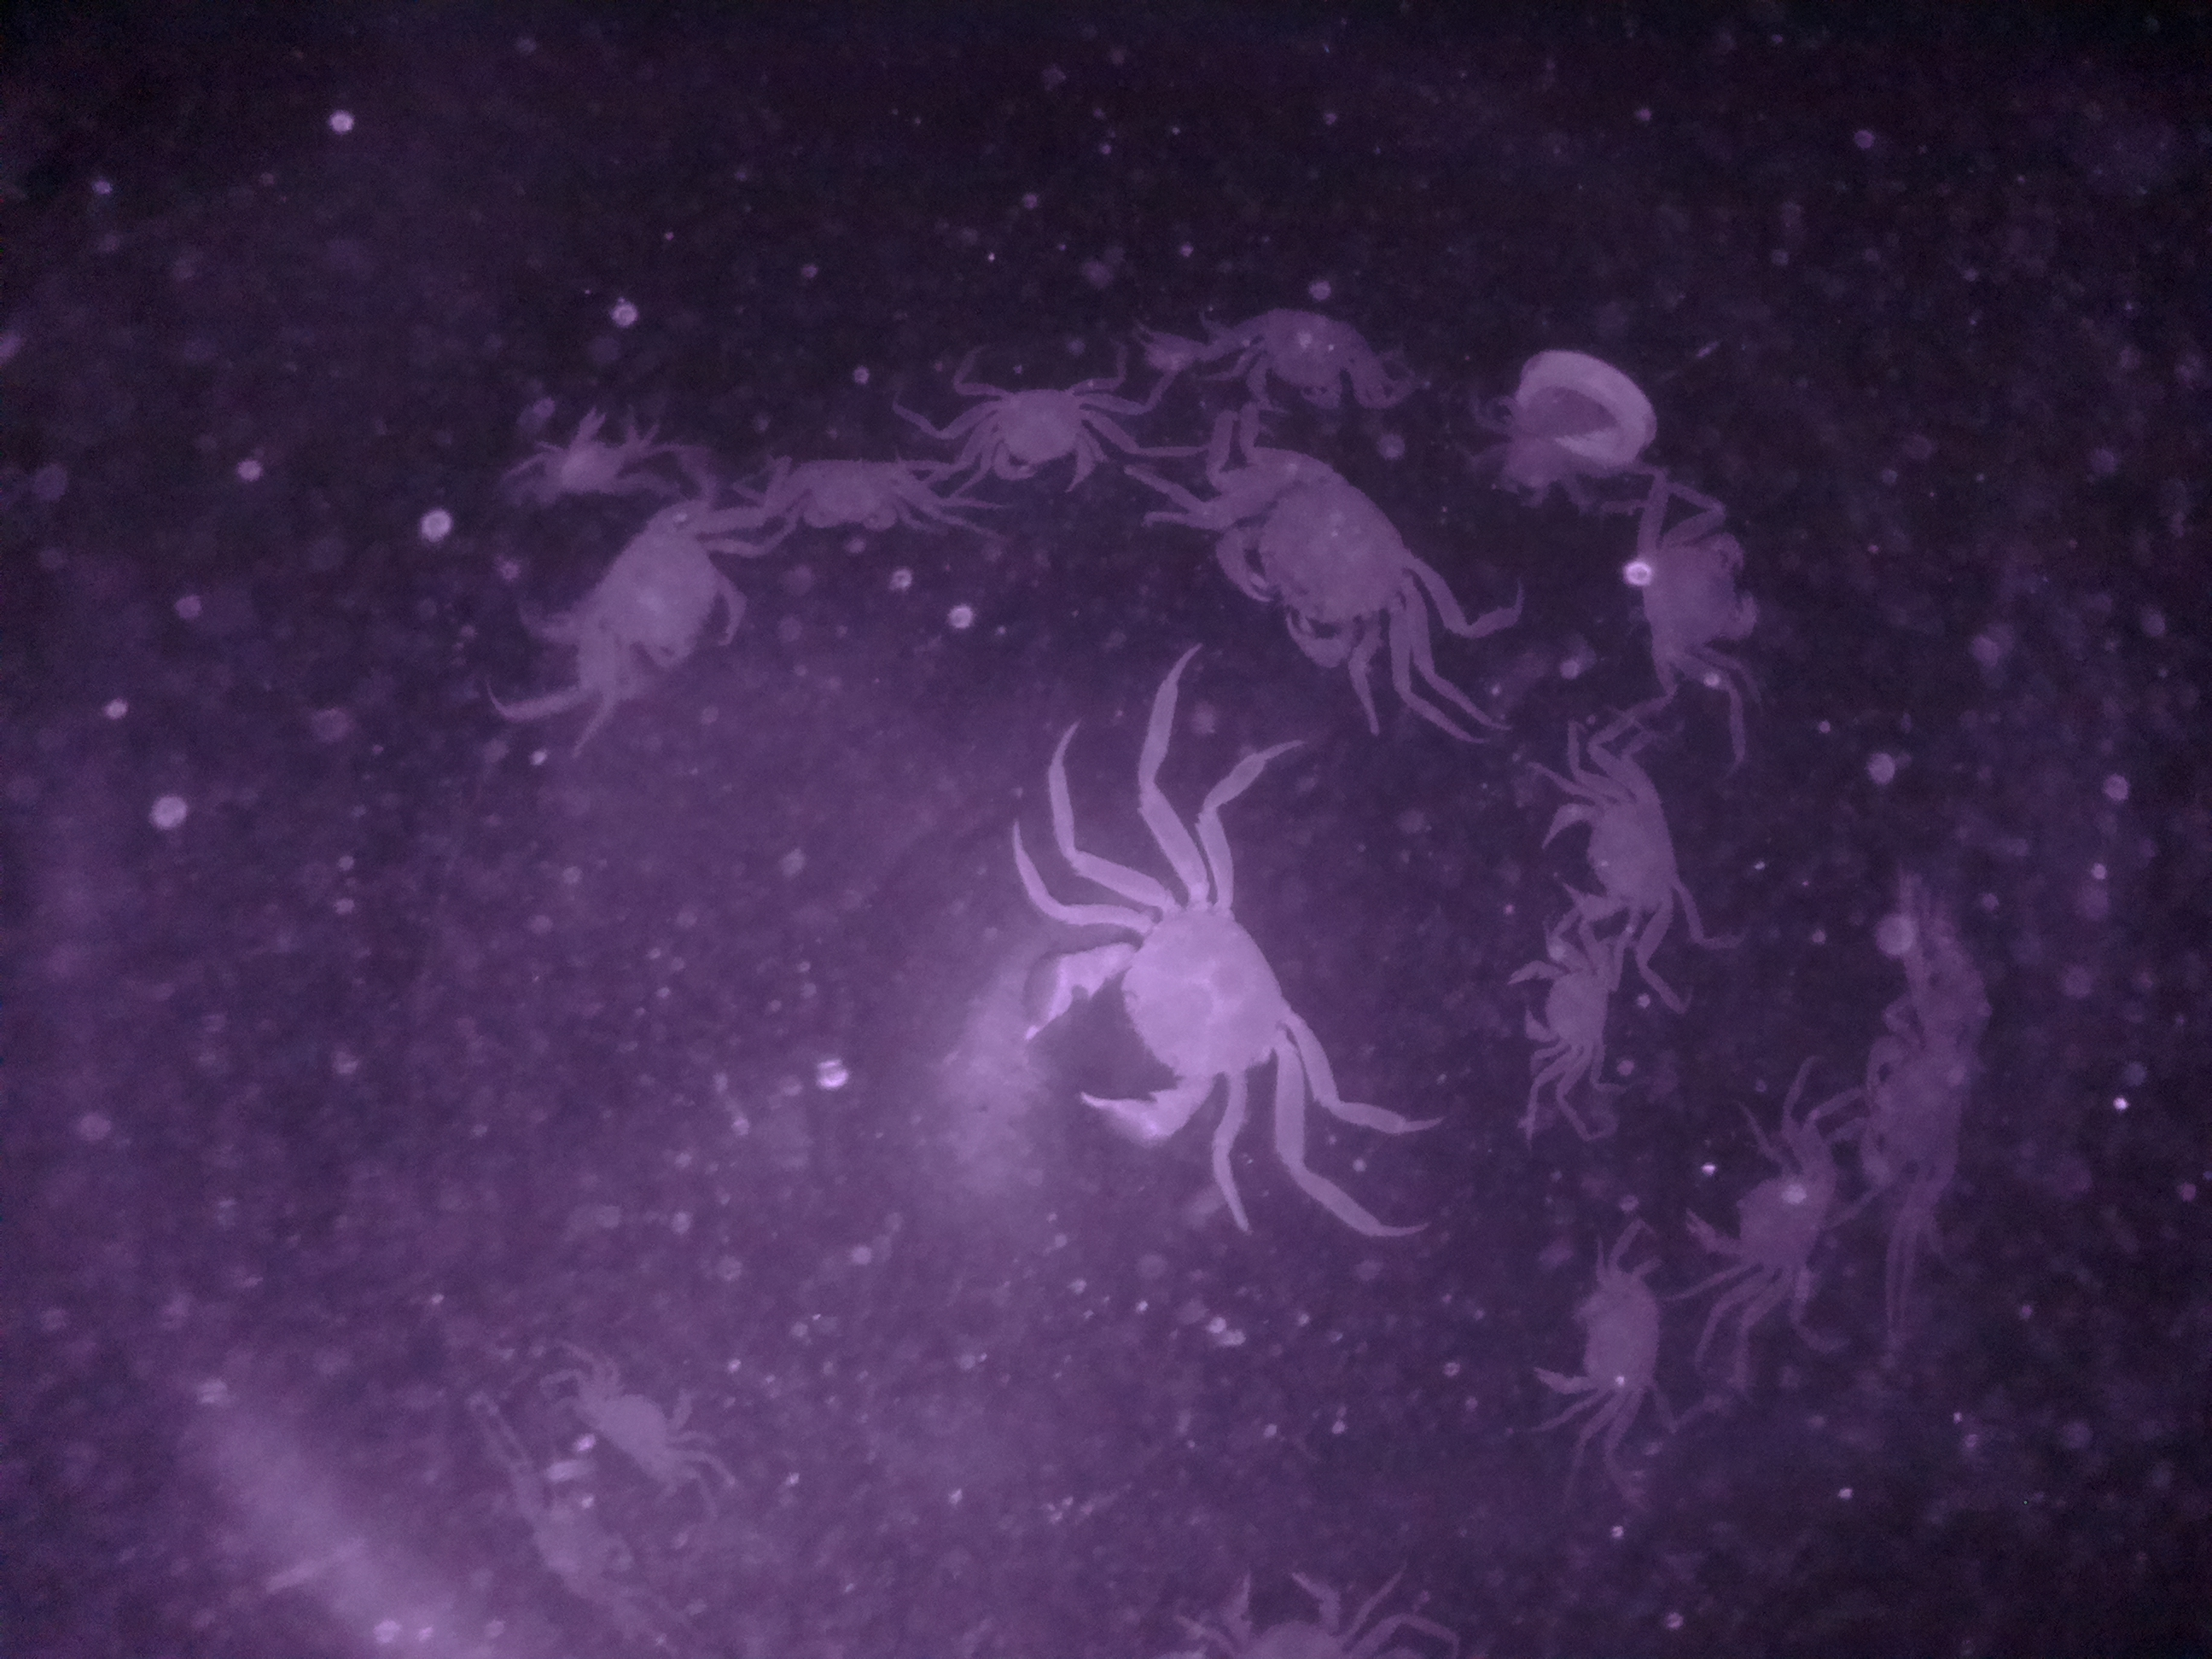Crab: (1012, 863, 1318, 1164), (1188, 420, 1446, 673), (1670, 1108, 1858, 1298), (1608, 481, 1777, 688), (1527, 753, 1689, 932), (958, 354, 1111, 500), (775, 436, 942, 554), (1508, 946, 1630, 1087)
